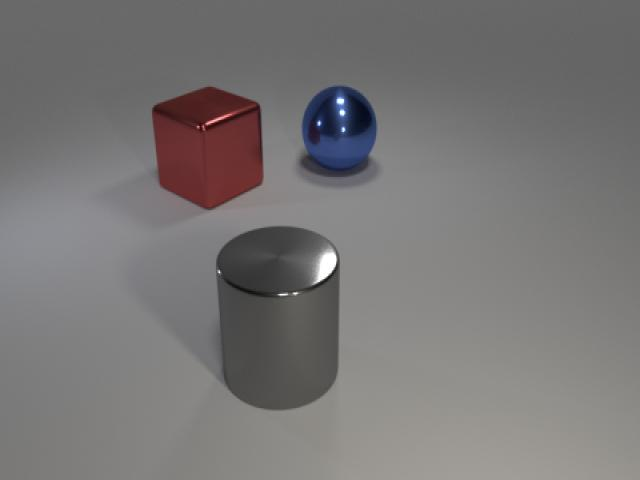cylinder: (202, 220, 355, 417)
round ball: (294, 78, 388, 182)
